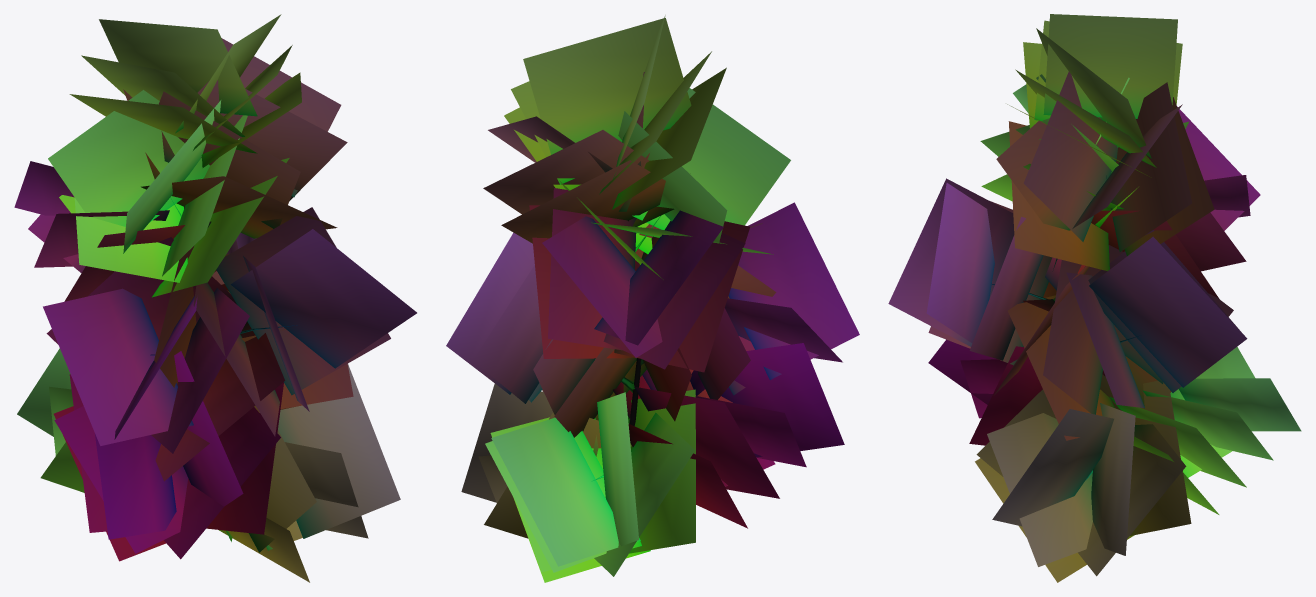
Rendered from URP_P15_Tree_9_LOD_3.fbx.
3 views of the same model, side by side, from view 1: azimuth 30°, elevation 25°; view 2: azimuth 150°, elevation 25°; view 3: azimuth 270°, elevation 25° (orthographic). The views are drawn at different scales.
Visible parts, largest first — view 1: Tree_9_LOD_3; view 2: Tree_9_LOD_3; view 3: Tree_9_LOD_3.
Part boxes in pixels (<box>): Tree_9_LOD_3: <box>14,14,416,582</box>; Tree_9_LOD_3: <box>446,15,859,582</box>; Tree_9_LOD_3: <box>888,14,1301,582</box>.
Bounding box in the file's own units: 456 × 774 × 551.
